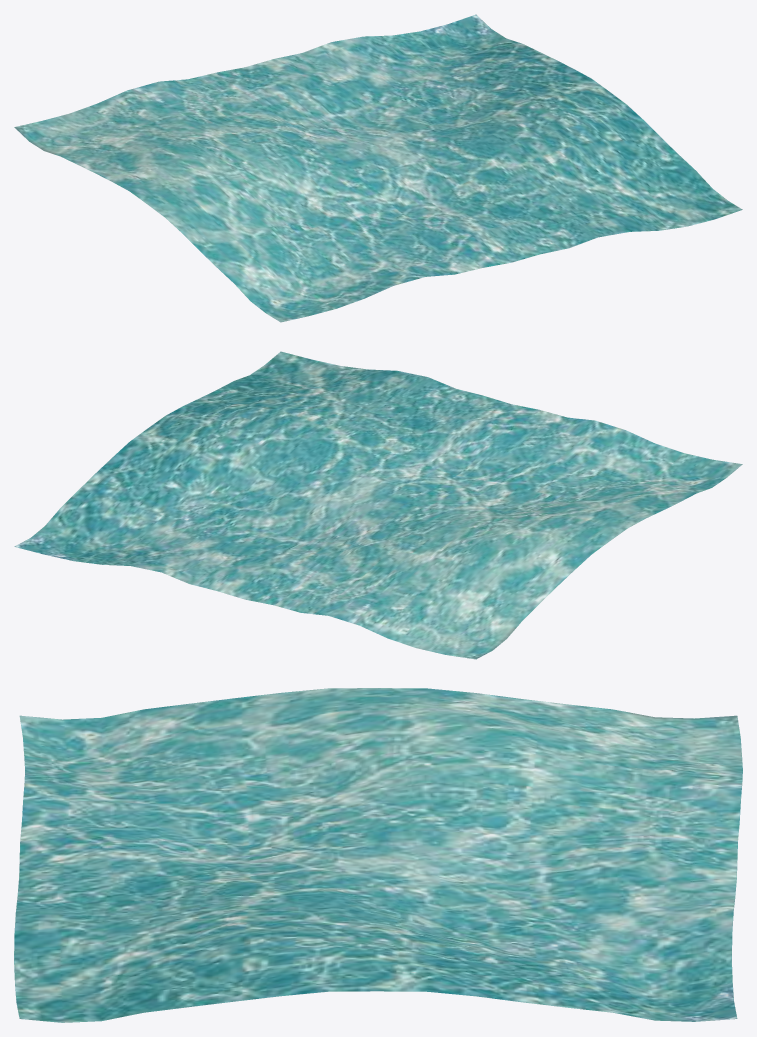
Rendered from water_000022.obj.
The picture shows the model from 3 angles, top to bottom: view 1: azimuth 30°, elevation 25°; view 2: azimuth 150°, elevation 25°; view 3: azimuth 270°, elevation 25°; orthographic projection. The views are drawn at different scales.
Parts seen in each view (by area): view 1: Plan.003_Plan.001; view 2: Plan.003_Plan.001; view 3: Plan.003_Plan.001.
Part boxes in pixels (bbox=[...]): Plan.003_Plan.001: bbox=[14, 14, 742, 322]; Plan.003_Plan.001: bbox=[14, 351, 742, 659]; Plan.003_Plan.001: bbox=[14, 688, 742, 1022].
Size of the model in its own units: 60539 by 4050 by 61269.
1 material, 1 textured.
